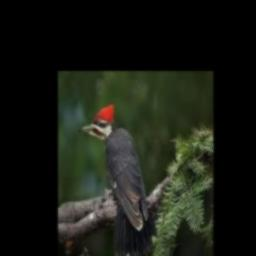Woodpecker: (80, 102, 156, 256)
